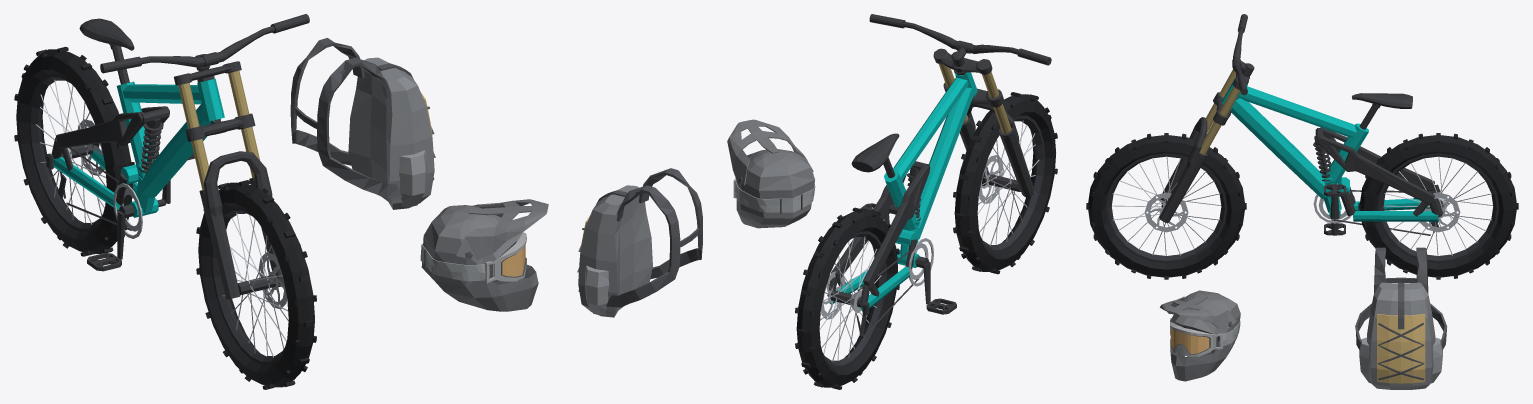
The model's file is baseplate.glb.
3 views of the same model, side by side, from view 1: azimuth 30°, elevation 25°; view 2: azimuth 150°, elevation 25°; view 3: azimuth 270°, elevation 25° (orthographic). The views are drawn at different scales.
Parts seen in each view (by area): view 1: Wheel_F_Tyre, Wheel_R_Tyre, Pack, Shell, Frame_Frame, FrontEnd_Black.001, ForkSlide_Black.001, RearArm_Black.001, Strap.004, Visor, Frame_Black.001, Goggles (+11 smaller); view 2: Wheel_F_Tyre, Wheel_R_Tyre, Pack, Frame_Frame, Shell, RearArm_Black.001, FrontEnd_Black.001, Strap.003, Visor, Wheel_F_Rim, ForkSlide_Black.001, Wheel_R_Silver (+10 smaller); view 3: Wheel_F_Tyre, Wheel_R_Tyre, Frame_Frame, RearArm_Black.001, Pack, Accent, Shell, Wheel_F_Rim, Wheel_R_Rim, Wheel_F_Silver, ForkSlide_Black.001, Wheel_R_Silver (+10 smaller).
Boxes of the visible parts, bbox=[...] form: Wheel_F_Tyre: bbox=[196, 180, 316, 389]; Wheel_R_Tyre: bbox=[14, 46, 134, 256]; Pack: bbox=[348, 57, 434, 209]; Shell: bbox=[421, 205, 538, 311]; Frame_Frame: bbox=[116, 78, 224, 217]; FrontEnd_Black.001: bbox=[100, 14, 309, 141]; ForkSlide_Black.001: bbox=[199, 151, 283, 299]; RearArm_Black.001: bbox=[46, 106, 169, 205]; Strap.004: bbox=[317, 57, 402, 197]; Visor: bbox=[456, 199, 548, 260]; Frame_Black.001: bbox=[66, 18, 214, 230]; Goggles: bbox=[420, 232, 526, 283]; Wheel_F_Tyre: bbox=[953, 92, 1057, 274]; Wheel_R_Tyre: bbox=[795, 207, 899, 389]; Pack: bbox=[578, 185, 652, 317]; Frame_Frame: bbox=[884, 72, 977, 267]; Shell: bbox=[736, 149, 814, 228]; RearArm_Black.001: bbox=[827, 161, 930, 336]; FrontEnd_Black.001: bbox=[869, 14, 1051, 107]; Strap.003: bbox=[606, 185, 680, 307]; Visor: bbox=[727, 119, 813, 185]; Wheel_F_Rim: bbox=[981, 115, 1045, 252]; ForkSlide_Black.001: bbox=[960, 104, 1034, 197]; Wheel_R_Silver: bbox=[819, 236, 881, 361]; Wheel_F_Tyre: bbox=[1086, 133, 1246, 279]; Wheel_R_Tyre: bbox=[1358, 133, 1518, 279]; Frame_Frame: bbox=[1222, 77, 1368, 216]; RearArm_Black.001: bbox=[1315, 127, 1442, 232]; Pack: bbox=[1367, 282, 1435, 389]; Accent: bbox=[1377, 314, 1425, 383]; Shell: bbox=[1170, 290, 1240, 381]; Wheel_F_Rim: bbox=[1105, 153, 1227, 263]; Wheel_R_Rim: bbox=[1377, 153, 1499, 263]; Wheel_F_Silver: bbox=[1112, 157, 1221, 255]; ForkSlide_Black.001: bbox=[1159, 117, 1207, 222]; Wheel_R_Silver: bbox=[1384, 156, 1492, 255].
Size of what is drawn, in the model's own units: 1.68 by 1.14 by 1.97.
